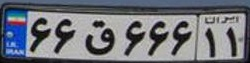character: (80, 16, 120, 59), (119, 16, 149, 59), (51, 15, 80, 57), (145, 15, 172, 59), (26, 13, 53, 56), (169, 17, 195, 58), (223, 25, 243, 59), (202, 25, 221, 60)
